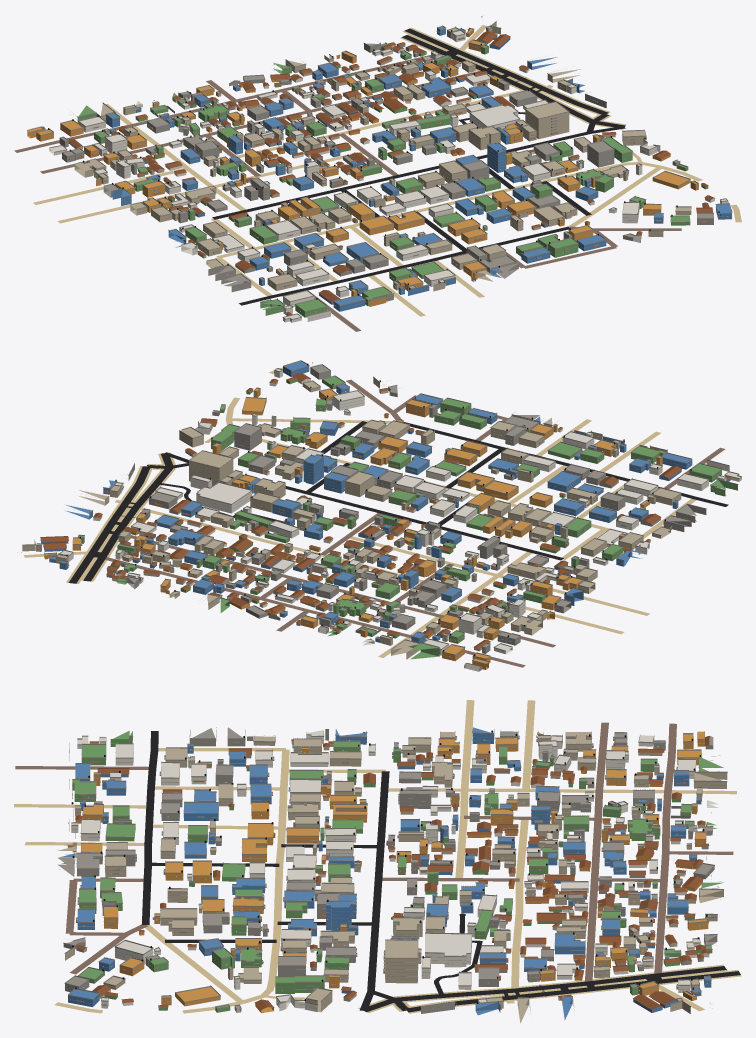
File: zone_t3_1.glb
3 renders of one model, top to bottom at view 1: azimuth 30°, elevation 25°; view 2: azimuth 150°, elevation 25°; view 3: azimuth 270°, elevation 25°, orthographic. The views are drawn at different scales.
Parts seen in each view (by area): view 1: parapet_t3_1, bld_peinture_ecaillee_t3_1-col, bld_peinture_bleu_t3_1-col, bld_peinture_blanc_t3_1-col, bld_peinture_vert_t3_1-col, bld_peinture_ocre_t3_1-col, bld_beton_t3_1-col, toit_tole_t3_1, route_residential_terre_t3_1, bandeau_t3_1, route_residential_paves_t3_1, route_residential_bitume_t3_1 (+5 smaller); view 2: parapet_t3_1, bld_peinture_ecaillee_t3_1-col, bld_peinture_blanc_t3_1-col, bld_peinture_bleu_t3_1-col, bld_peinture_vert_t3_1-col, bld_peinture_ocre_t3_1-col, bld_beton_t3_1-col, toit_tole_t3_1, bandeau_t3_1, route_residential_terre_t3_1, route_residential_paves_t3_1, route_residential_bitume_t3_1 (+4 smaller); view 3: parapet_t3_1, bld_peinture_ecaillee_t3_1-col, bld_peinture_blanc_t3_1-col, bld_peinture_bleu_t3_1-col, bld_peinture_vert_t3_1-col, bld_peinture_ocre_t3_1-col, bld_beton_t3_1-col, toit_tole_t3_1, route_residential_terre_t3_1, route_residential_paves_t3_1, bandeau_t3_1, route_residential_bitume_t3_1 (+5 smaller).
Part boxes in pixels (bbox=[...]): parapet_t3_1: bbox=[27, 15, 732, 319]; bld_peinture_ecaillee_t3_1-col: bbox=[68, 22, 691, 291]; bld_peinture_bleu_t3_1-col: bbox=[106, 26, 731, 315]; bld_peinture_blanc_t3_1-col: bbox=[49, 31, 727, 322]; bld_peinture_vert_t3_1-col: bbox=[77, 43, 708, 317]; bld_peinture_ocre_t3_1-col: bbox=[27, 29, 698, 306]; bld_beton_t3_1-col: bbox=[41, 43, 713, 301]; toit_tole_t3_1: bbox=[42, 31, 714, 315]; route_residential_terre_t3_1: bbox=[33, 25, 741, 316]; bandeau_t3_1: bbox=[28, 25, 731, 318]; route_residential_paves_t3_1: bbox=[14, 54, 681, 331]; route_residential_bitume_t3_1: bbox=[212, 122, 625, 305]; parapet_t3_1: bbox=[17, 360, 741, 664]; bld_peinture_ecaillee_t3_1-col: bbox=[22, 378, 681, 659]; bld_peinture_blanc_t3_1-col: bbox=[60, 369, 741, 655]; bld_peinture_bleu_t3_1-col: bbox=[40, 361, 730, 642]; bld_peinture_vert_t3_1-col: bbox=[78, 376, 737, 659]; bld_peinture_ocre_t3_1-col: bbox=[44, 388, 667, 669]; bld_beton_t3_1-col: bbox=[106, 365, 706, 671]; toit_tole_t3_1: bbox=[40, 372, 730, 666]; bandeau_t3_1: bbox=[29, 368, 736, 667]; route_residential_terre_t3_1: bbox=[24, 367, 696, 634]; route_residential_paves_t3_1: bbox=[105, 379, 725, 667]; route_residential_bitume_t3_1: bbox=[165, 421, 728, 560]; parapet_t3_1: bbox=[59, 727, 727, 1011]; bld_peinture_ecaillee_t3_1-col: bbox=[58, 732, 727, 1023]; bld_peinture_blanc_t3_1-col: bbox=[68, 730, 718, 1011]; bld_peinture_bleu_t3_1-col: bbox=[61, 727, 711, 1020]; bld_peinture_vert_t3_1-col: bbox=[72, 730, 723, 1012]; bld_peinture_ocre_t3_1-col: bbox=[72, 731, 708, 1013]; bld_beton_t3_1-col: bbox=[58, 727, 717, 1013]; toit_tole_t3_1: bbox=[67, 736, 709, 1009]; route_residential_terre_t3_1: bbox=[14, 700, 704, 1013]; route_residential_paves_t3_1: bbox=[15, 722, 733, 981]; bandeau_t3_1: bbox=[57, 732, 726, 1014]; route_residential_bitume_t3_1: bbox=[141, 731, 394, 1010].
Size of the model in its own units: 596 by 23 by 566.
